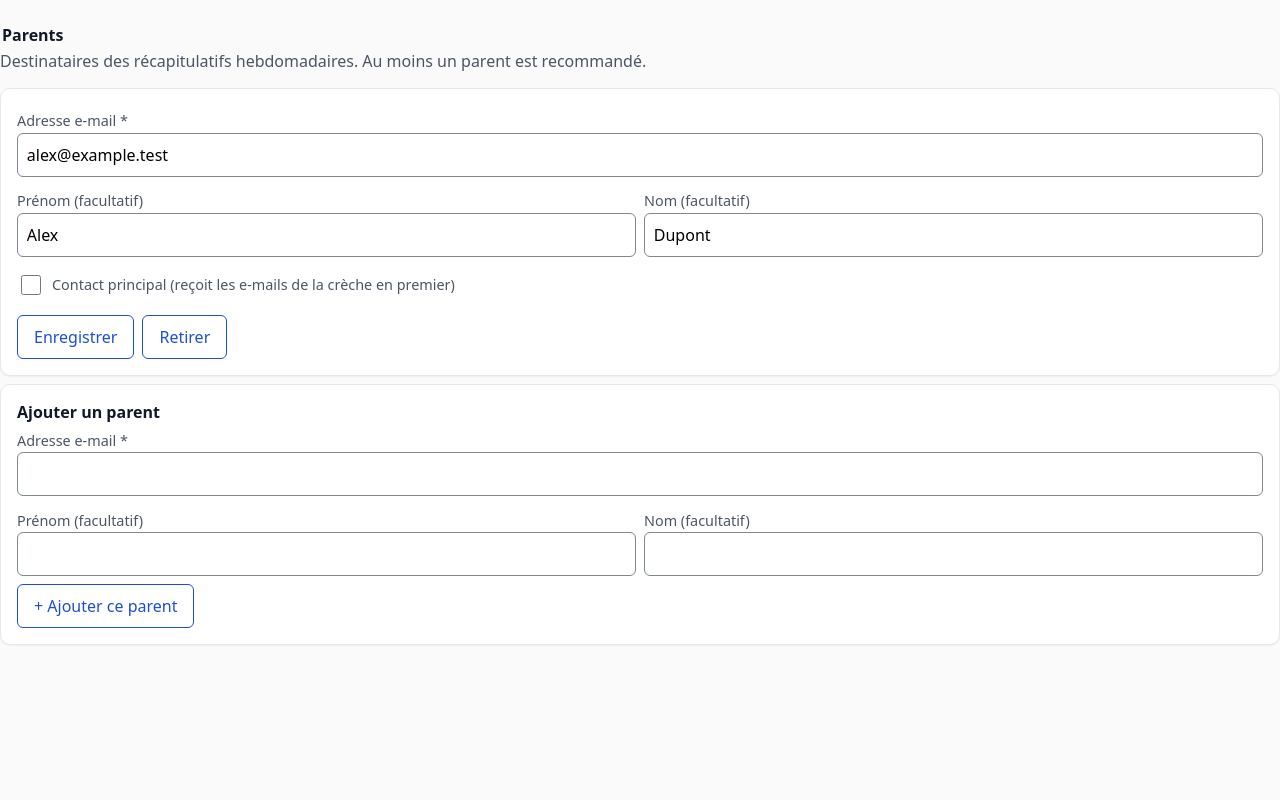
it: ParentsSection › affiche le message « dernier parent » sur un 409 DERNIER_PARENT_ACTIF au retrait
Click the button with aria-label "Retirer le parent". click: (185, 337)
box: x1=142 y1=315 x2=227 y2=359
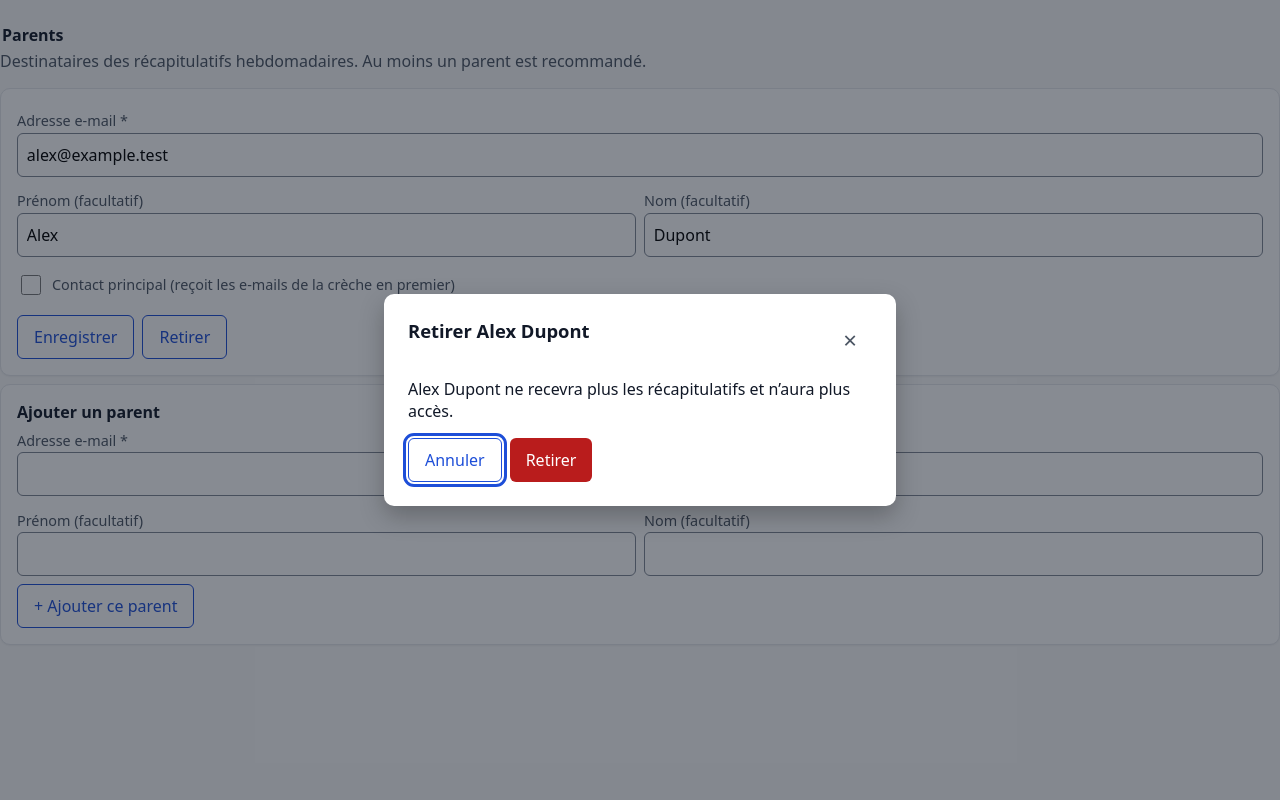
Click the button "Retirer". click: (551, 460)
box: x1=510 y1=438 x2=592 y2=482
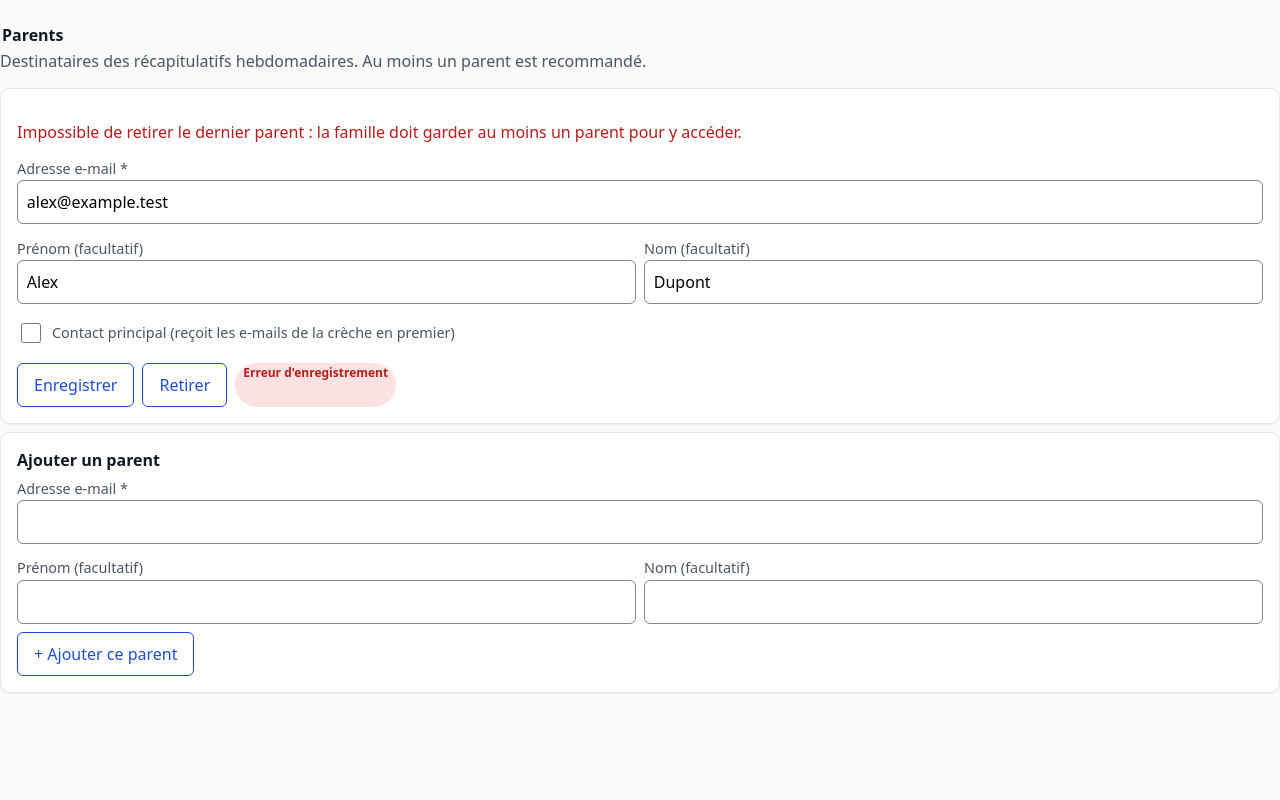
Expected: the 1st field showing "alex@example.test" is shown, x1=17 y1=180 x2=1263 y2=224
Result: the 1st message shows "Impossible de retirer le dernier parent" at x1=17 y1=121 x2=742 y2=143
